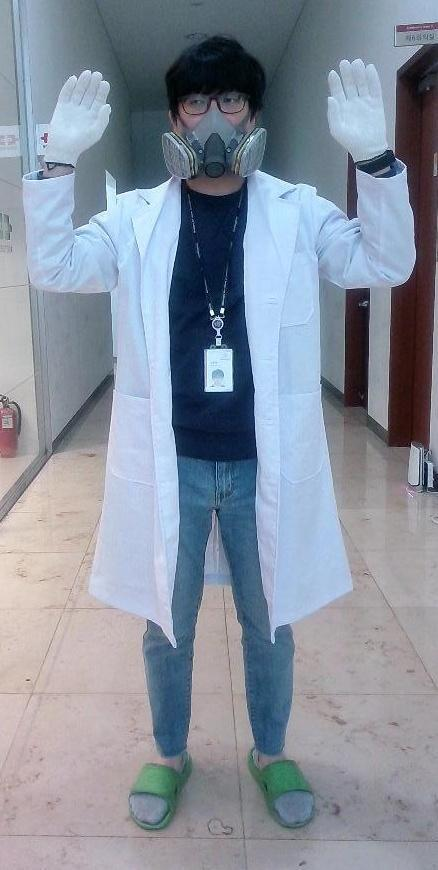lab_coat: (92, 189, 340, 608)
